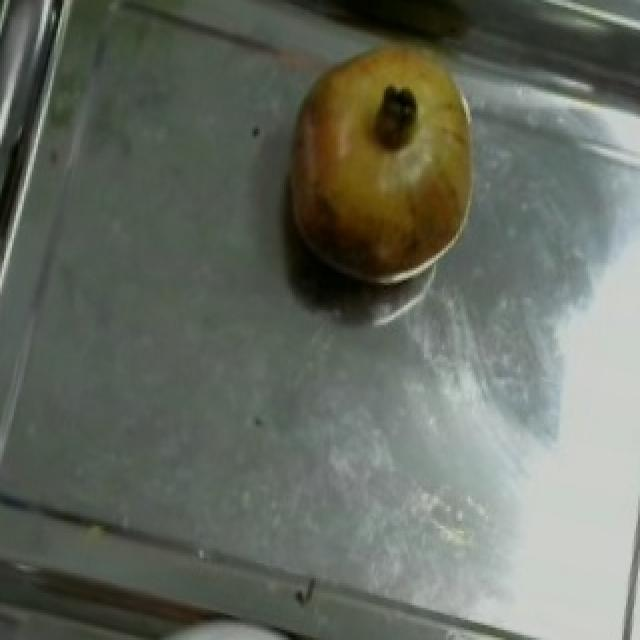fruit: (264, 8, 510, 308)
